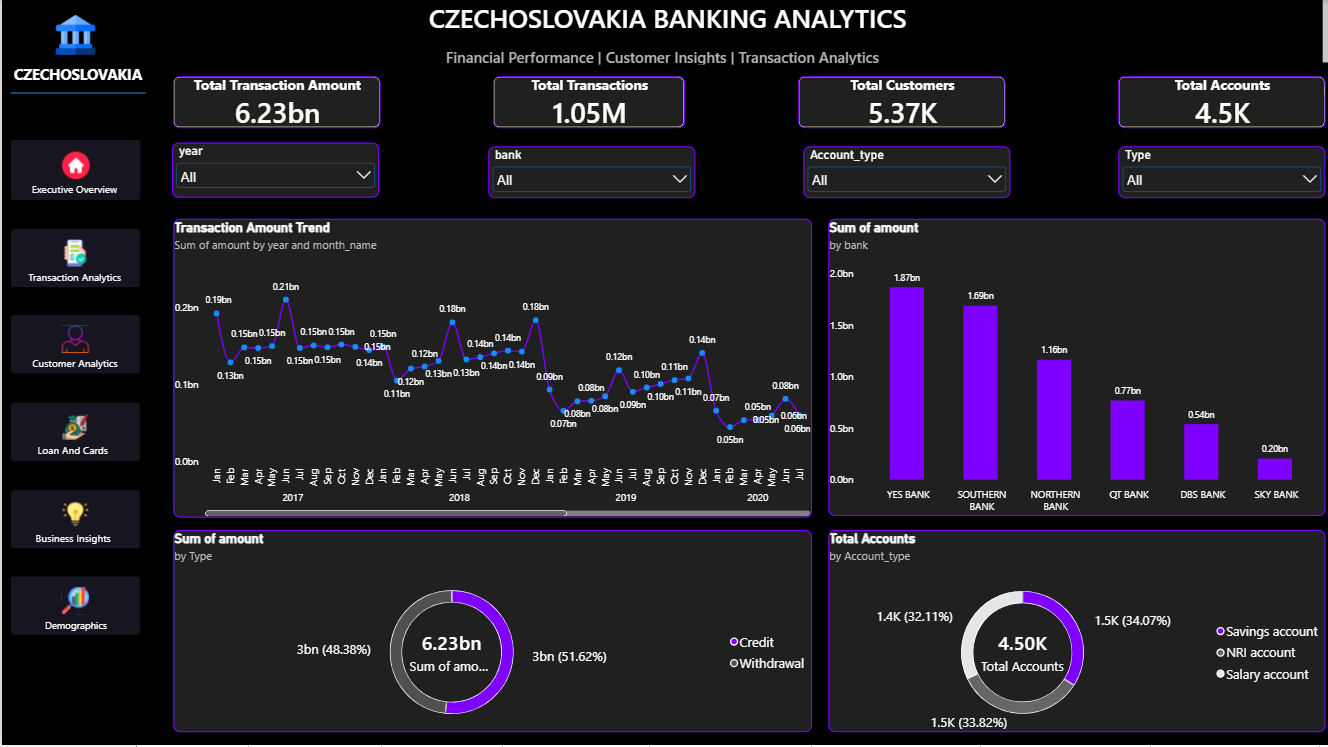

The page's visual inventory and layout, read from the dashboard file:
{"tool":"powerbi","page":{"name":"overview","canvas":[1920,1080],"ordinal":0},"visuals":[{"type":"textbox","box":[0,0,1920,93.3],"z":0},{"type":"cardVisual","fields":{"Data":["_Measures.Total Transaction Amount"]},"box":[247.5,110,300,75],"z":1000},{"type":"cardVisual","fields":{"Data":["_Measures.Total Transactions"]},"box":[711.4,110,277.5,75],"z":2000},{"type":"cardVisual","fields":{"Data":["_Measures.Total Customers"]},"box":[1152.8,110,300,75],"z":3000},{"type":"cardVisual","fields":{"Data":["_Measures.Total Accounts"]},"box":[1616.7,110,300,75],"z":4000},{"type":"slicer","fields":{"Values":["DateTable.year"]},"box":[246.7,206.7,300,80],"z":5000},{"type":"slicer","fields":{"Values":["bank1 transactions_clean.bank"]},"box":[703.3,211.7,300,75],"z":6000},{"type":"slicer","fields":{"Values":["bank1 account.Account_type"]},"box":[1160,211.7,300,75],"z":7000},{"type":"slicer","fields":{"Values":["bank1 transactions_clean.Type"]},"box":[1616.7,211.7,300,75],"z":8000},{"type":"lineChart","title":"Transaction Amount Trend","fields":{"Category":["DateTable.year","DateTable.month_name"],"Y":["Sum(bank1 transactions_clean.amount)"]},"box":[247.5,315,925,432.5],"z":9000},{"type":"clusteredColumnChart","fields":{"Category":["bank1 transactions_clean.bank"],"Y":["Sum(bank1 transactions_clean.amount)"]},"box":[1196.7,316.7,696.7,430],"z":10000},{"type":"donutChart","fields":{"Category":["bank1 transactions_clean.Type"],"Y":["Sum(bank1 transactions_clean.amount)"]},"box":[247.5,767.5,925,292.5],"z":11000},{"type":"donutChart","fields":{"Category":["bank1 account.Account_type"],"Y":["_Measures.Total Accounts"]},"box":[1196.7,766.7,696.7,293.3],"z":12000},{"type":"textbox","box":[0,92.5,220,75],"z":13000},{"type":"image","box":[70,22.5,72.5,57.5],"z":14000},{"type":"shape","box":[12.5,80,195,110],"z":15000},{"type":"actionButton","box":[12.5,330.6,187,85],"z":16000},{"type":"actionButton","box":[12.5,456.7,187,85],"z":17000},{"type":"actionButton","box":[12.5,582.8,187,85],"z":18000},{"type":"actionButton","box":[12.5,708.9,187,85],"z":19000},{"type":"actionButton","box":[12.5,202.5,188.3,87],"z":20000},{"type":"actionButton","box":[12.5,835,187,85],"z":21000}]}

Visuals, with their boxes in screenshot pixels (x1, y1, x2, y2), scaled from the page's 1920x1080 canvas onto the 1328x747 screenshot:
textbox: bbox(0, 0, 1327, 65)
cardVisual - _Measures.Total Transaction Amount: bbox(171, 76, 379, 128)
cardVisual - _Measures.Total Transactions: bbox(492, 76, 684, 128)
cardVisual - _Measures.Total Customers: bbox(797, 76, 1005, 128)
cardVisual - _Measures.Total Accounts: bbox(1118, 76, 1326, 128)
slicer - DateTable.year: bbox(171, 143, 378, 198)
slicer - bank1 transactions_clean.bank: bbox(486, 146, 694, 198)
slicer - bank1 account.Account_type: bbox(802, 146, 1010, 198)
slicer - bank1 transactions_clean.Type: bbox(1118, 146, 1326, 198)
"Transaction Amount Trend" lineChart: bbox(171, 218, 811, 517)
clusteredColumnChart - bank1 transactions_clean.bank x Sum(bank1 transactions_clean.amount): bbox(828, 219, 1310, 516)
donutChart - bank1 transactions_clean.Type x Sum(bank1 transactions_clean.amount): bbox(171, 531, 811, 733)
donutChart - bank1 account.Account_type x _Measures.Total Accounts: bbox(828, 530, 1310, 733)
textbox: bbox(0, 64, 152, 116)
image: bbox(48, 16, 99, 55)
shape: bbox(9, 55, 144, 131)
actionButton: bbox(9, 229, 138, 287)
actionButton: bbox(9, 316, 138, 375)
actionButton: bbox(9, 403, 138, 462)
actionButton: bbox(9, 490, 138, 549)
actionButton: bbox(9, 140, 139, 200)
actionButton: bbox(9, 578, 138, 636)
